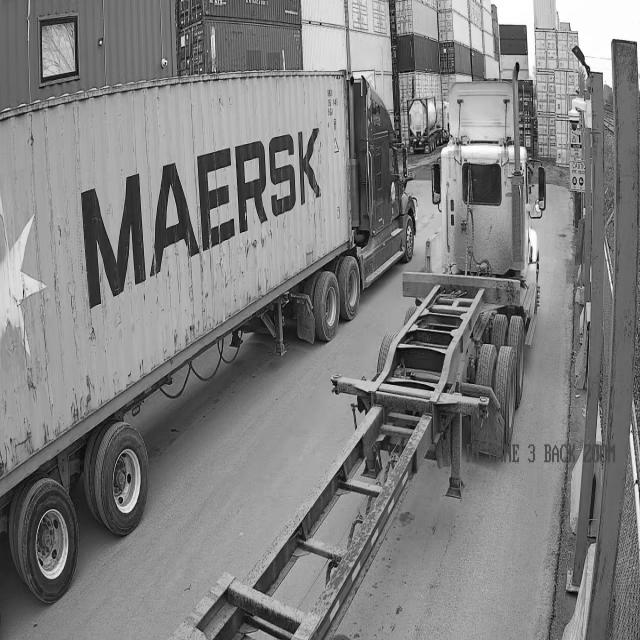container_company_logo: (81, 129, 320, 308)
truck_with_container: (0, 71, 418, 601)
truck_without_container: (174, 64, 546, 639)
